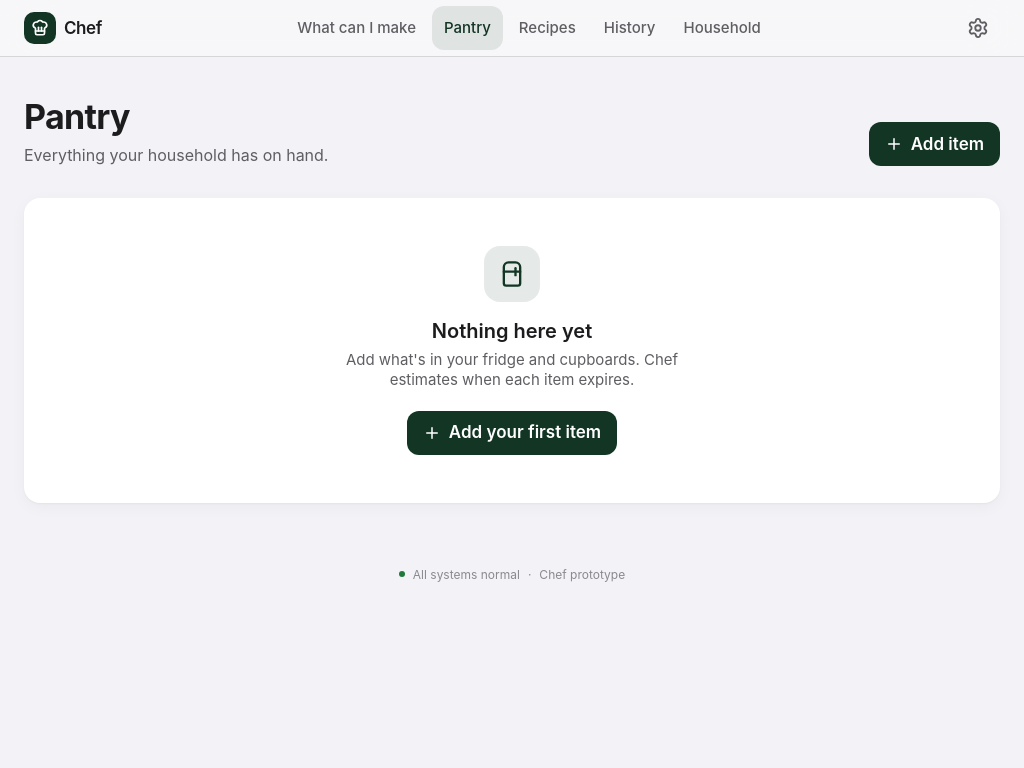
PantryPage › shows a validation error from the API
The width and height of the screenshot is (1024, 768).
Click the button "Add item".
click(934, 144)  # box [869,122,1000,166]
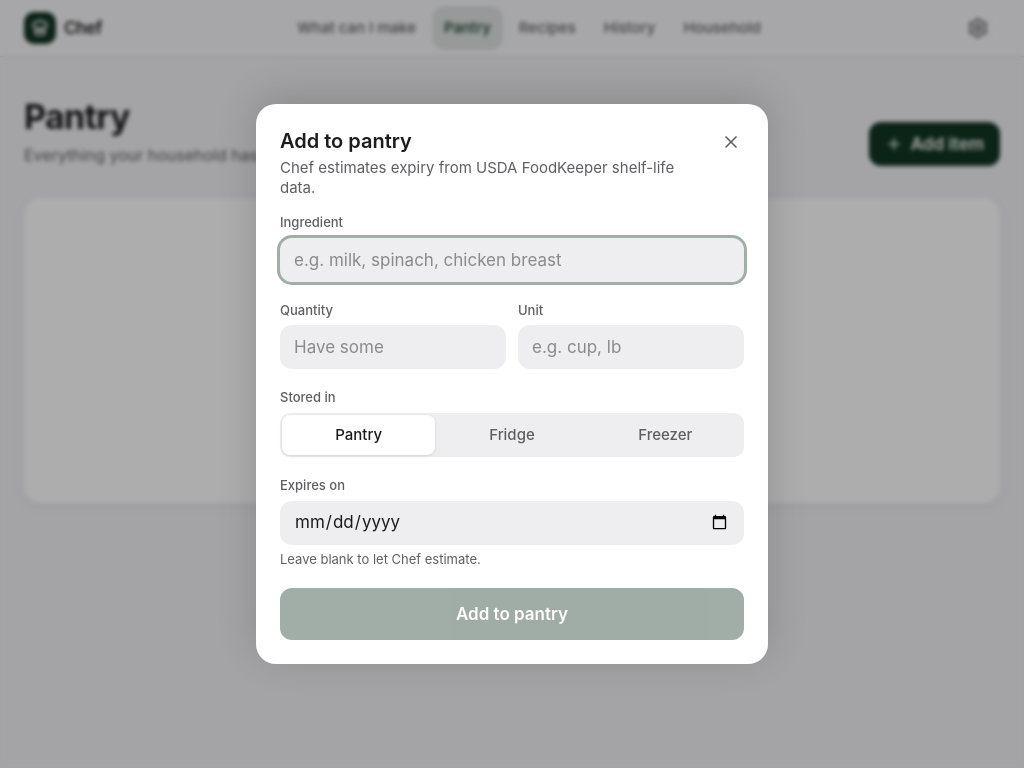
Type "zzz" into the dropdown.
click(512, 260); type("zzz")  # box [280,238,744,282]
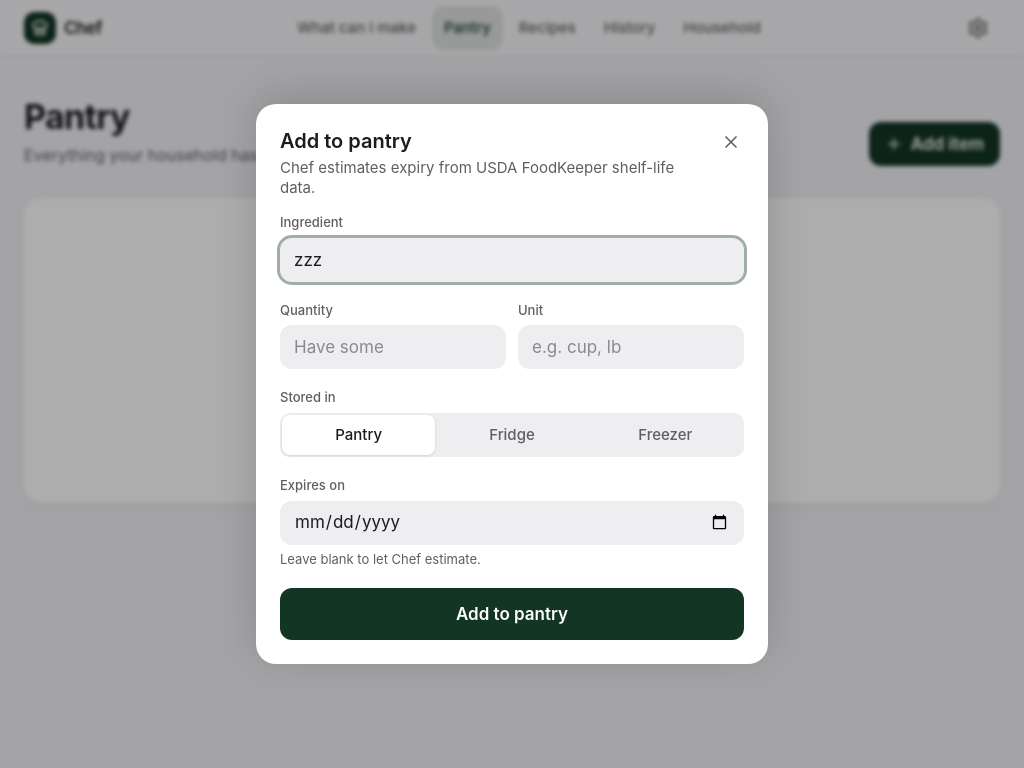
Click the button "Add to pantry".
click(512, 614)  # box [280,588,744,640]
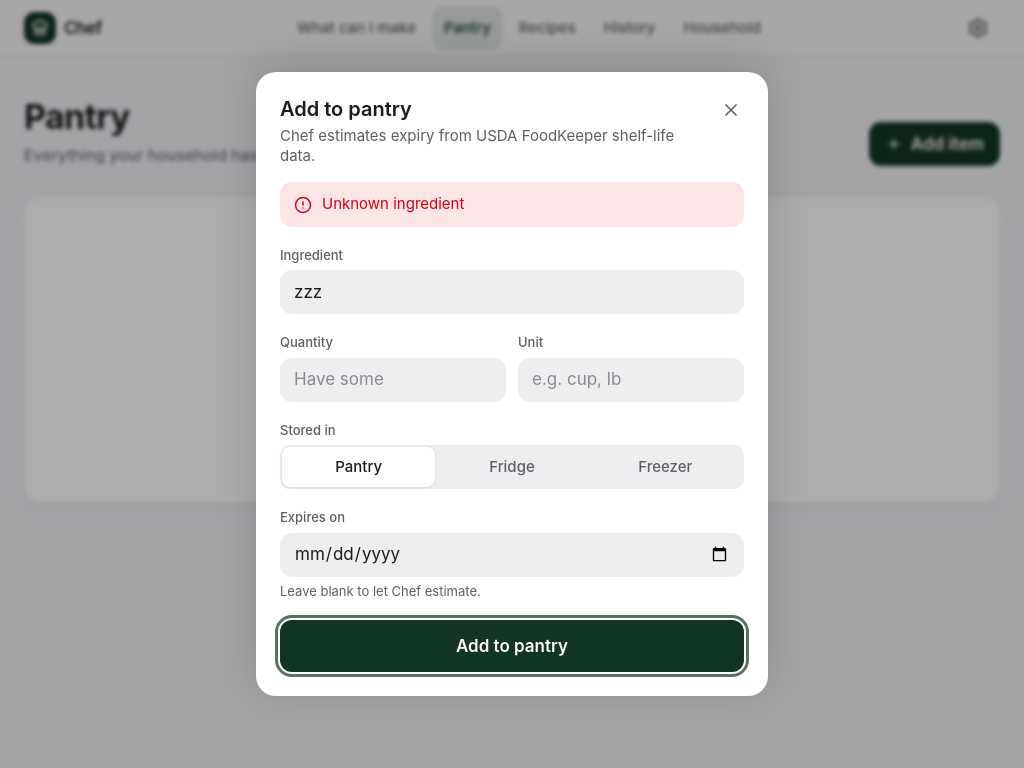
Expected: the message reads "Unknown ingredient", [322,194,464,213]
